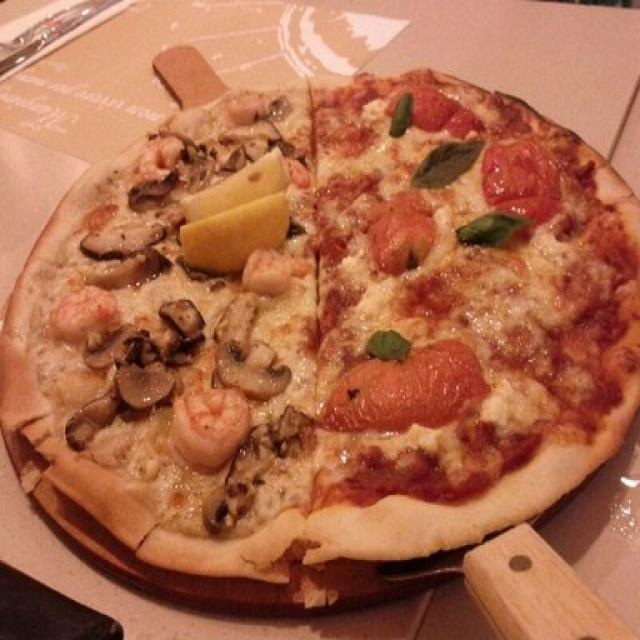Basil: (408, 142, 482, 185), (460, 214, 529, 246), (367, 332, 415, 360), (387, 94, 415, 139)
Mushrooms: (228, 421, 306, 479), (216, 336, 290, 396), (61, 394, 128, 438), (117, 363, 175, 403), (83, 334, 143, 368), (81, 228, 163, 252), (161, 299, 202, 341), (133, 172, 180, 208), (207, 486, 240, 528)
Pizza: (0, 70, 640, 582)
Tomato: (335, 335, 479, 417), (480, 136, 561, 215), (372, 195, 442, 265)
